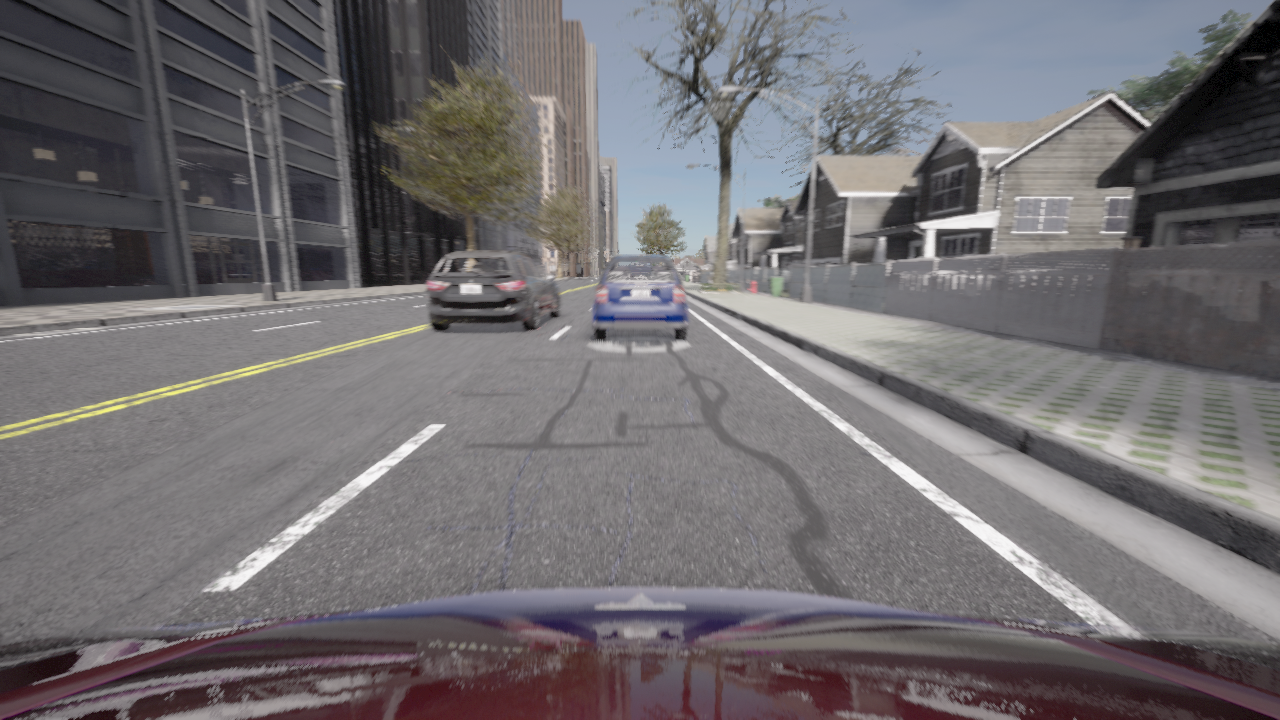cyclist: (0, 588, 1279, 719), (426, 251, 560, 330), (592, 255, 688, 340)
